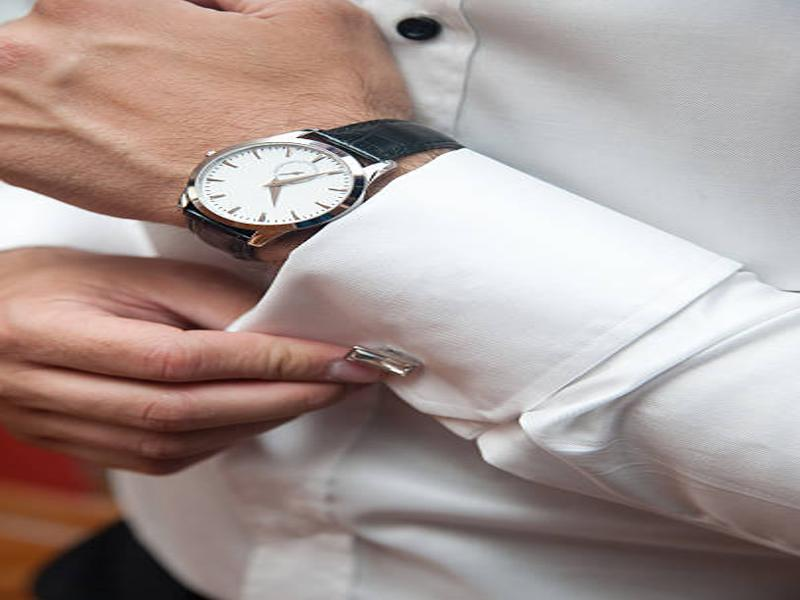watch: (182, 112, 467, 267)
